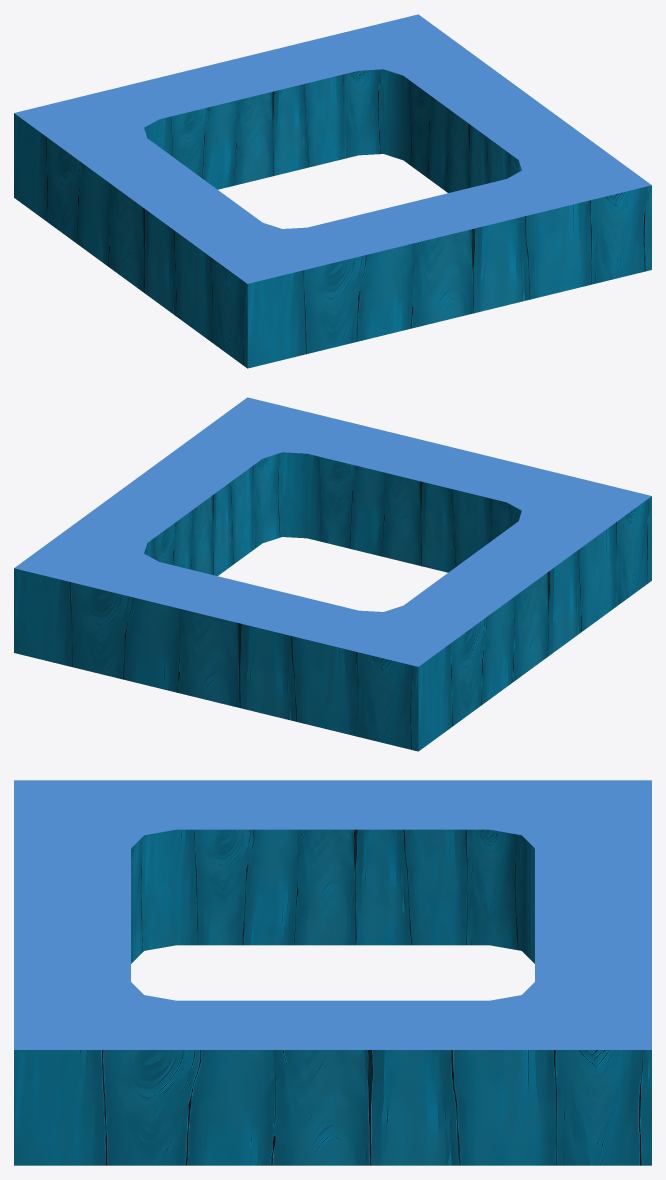
Rendered from Tile_Hole_1.fbx.
3 views of the same model, one above another, from view 1: azimuth 30°, elevation 25°; view 2: azimuth 150°, elevation 25°; view 3: azimuth 270°, elevation 25° (orthographic). The views are drawn at different scales.
Visible parts, largest first — view 1: Base_hole_1; view 2: Base_hole_1; view 3: Base_hole_1.
Part boxes in pixels (x1,y1,x2,y2): Base_hole_1: (14, 14, 651, 368); Base_hole_1: (14, 397, 651, 751); Base_hole_1: (14, 780, 651, 1165).
Bounding box in the file's own units: 100 × 20 × 100.
